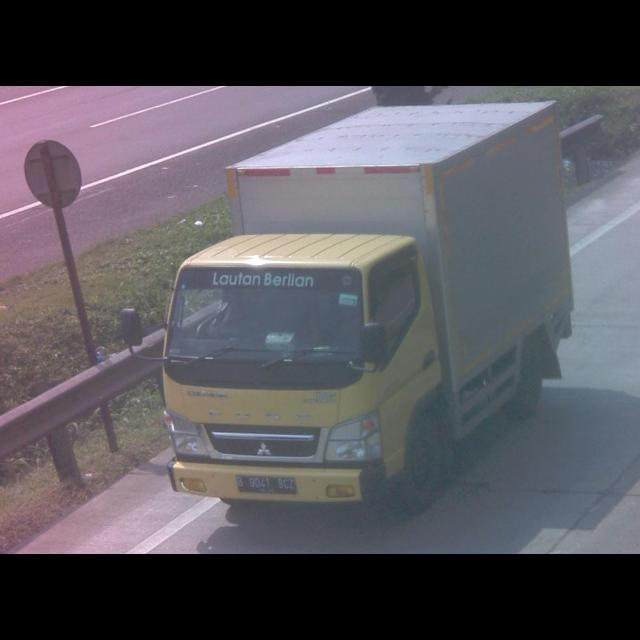plate: (232, 474, 300, 498)
